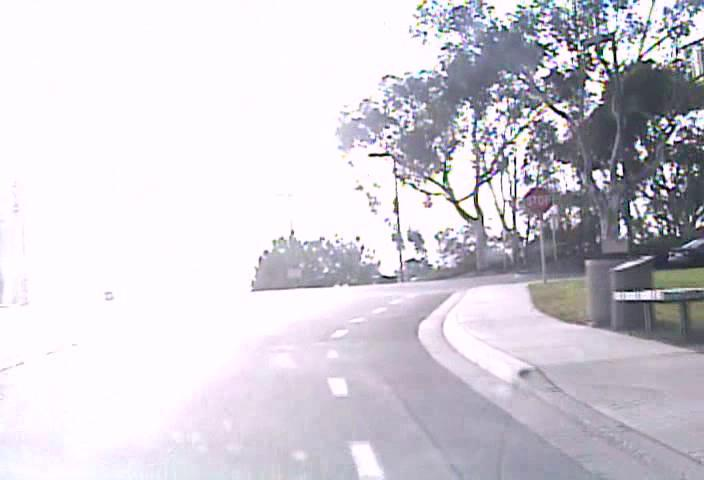stop: (523, 186, 553, 215)
